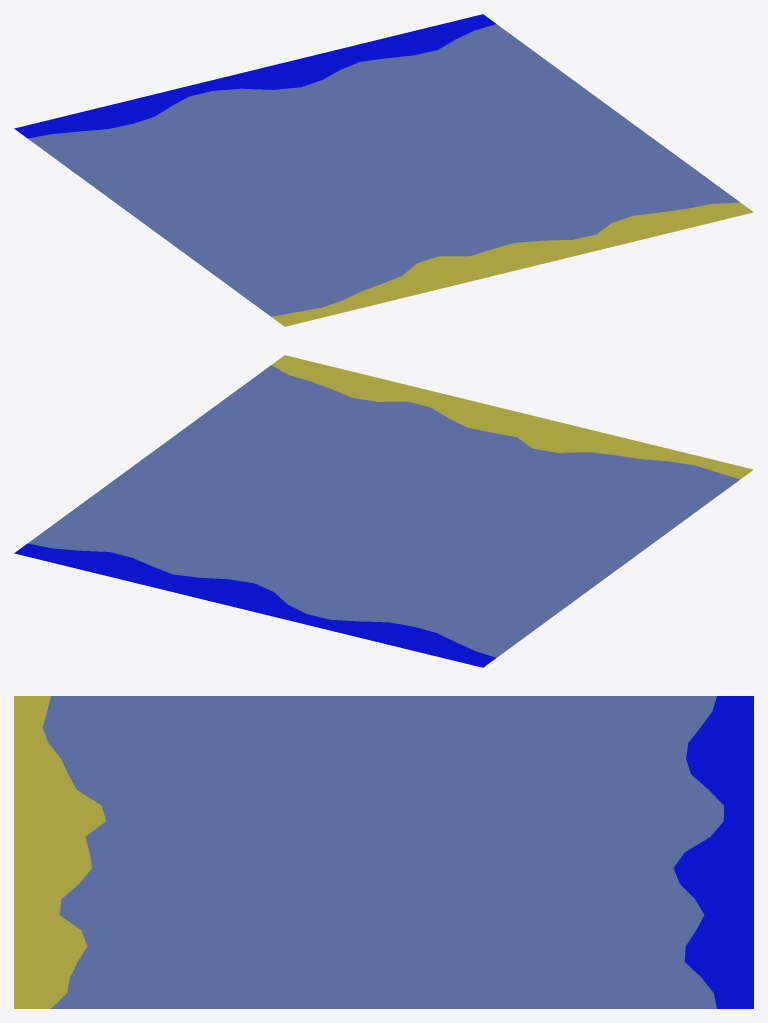
Rendered from ShoreStraight2.glb.
3 renders of one model, top to bottom at view 1: azimuth 30°, elevation 25°; view 2: azimuth 150°, elevation 25°; view 3: azimuth 270°, elevation 25°, orthographic. The views are drawn at different scales.
Parts seen in each view (by area): view 1: ShoreStraight2; view 2: ShoreStraight2; view 3: ShoreStraight2.
Part boxes in pixels (<box>): ShoreStraight2: <box>14,14,753,326</box>; ShoreStraight2: <box>14,355,753,667</box>; ShoreStraight2: <box>14,696,753,1008</box>.
Size of the model in its own units: 1 by 0 by 1.
